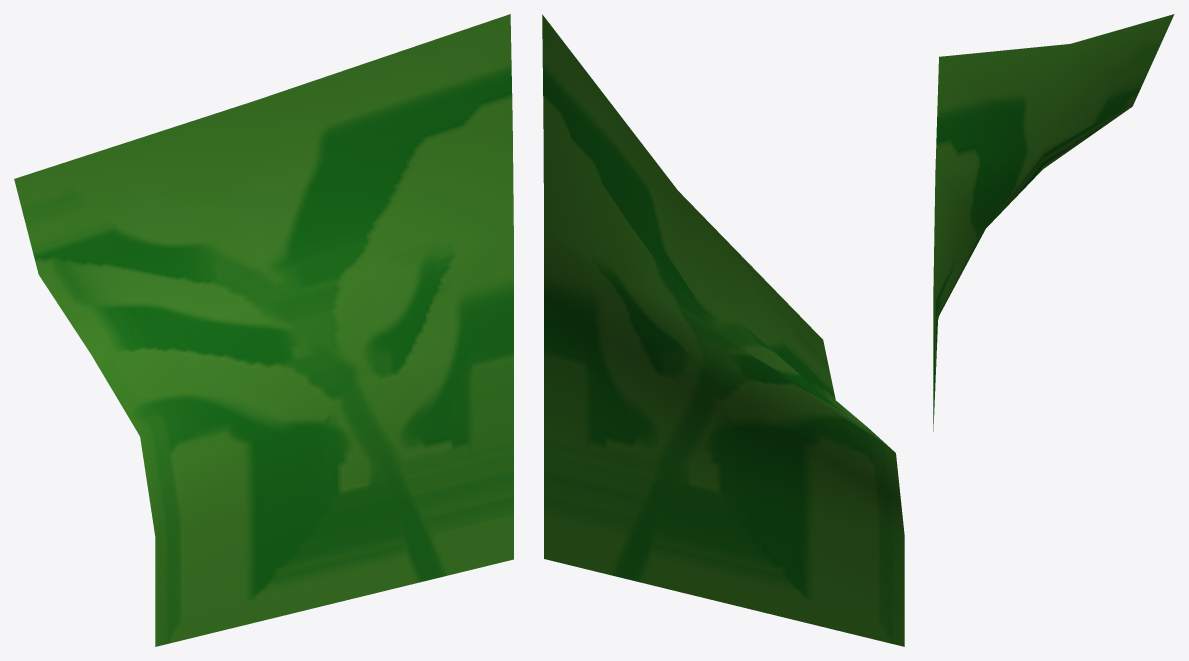
Rendered from Grassblade.fbx.
3 renders of one model, left to right at view 1: azimuth 30°, elevation 25°; view 2: azimuth 150°, elevation 25°; view 3: azimuth 270°, elevation 25°, orthographic. The views are drawn at different scales.
Visible parts, largest first — view 1: Plane.005; view 2: Plane.005; view 3: Plane.005.
Part boxes in pixels (box(x1,y1,x2,y2)): Plane.005: box(14, 14, 513, 646); Plane.005: box(542, 14, 904, 646); Plane.005: box(933, 14, 1174, 431).
Bounding box in the file's own units: 108 × 145 × 53.71.
1 material, 1 textured.
